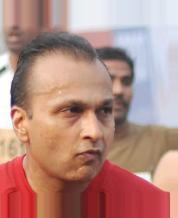face: (57, 100, 113, 164)
